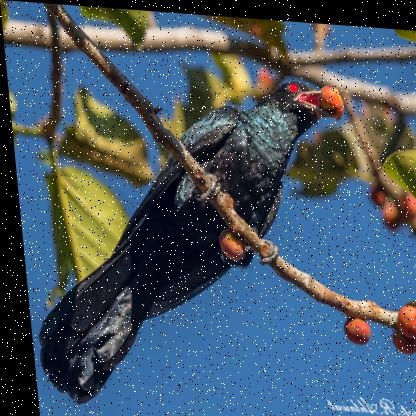Burung: (10, 59, 368, 415)
